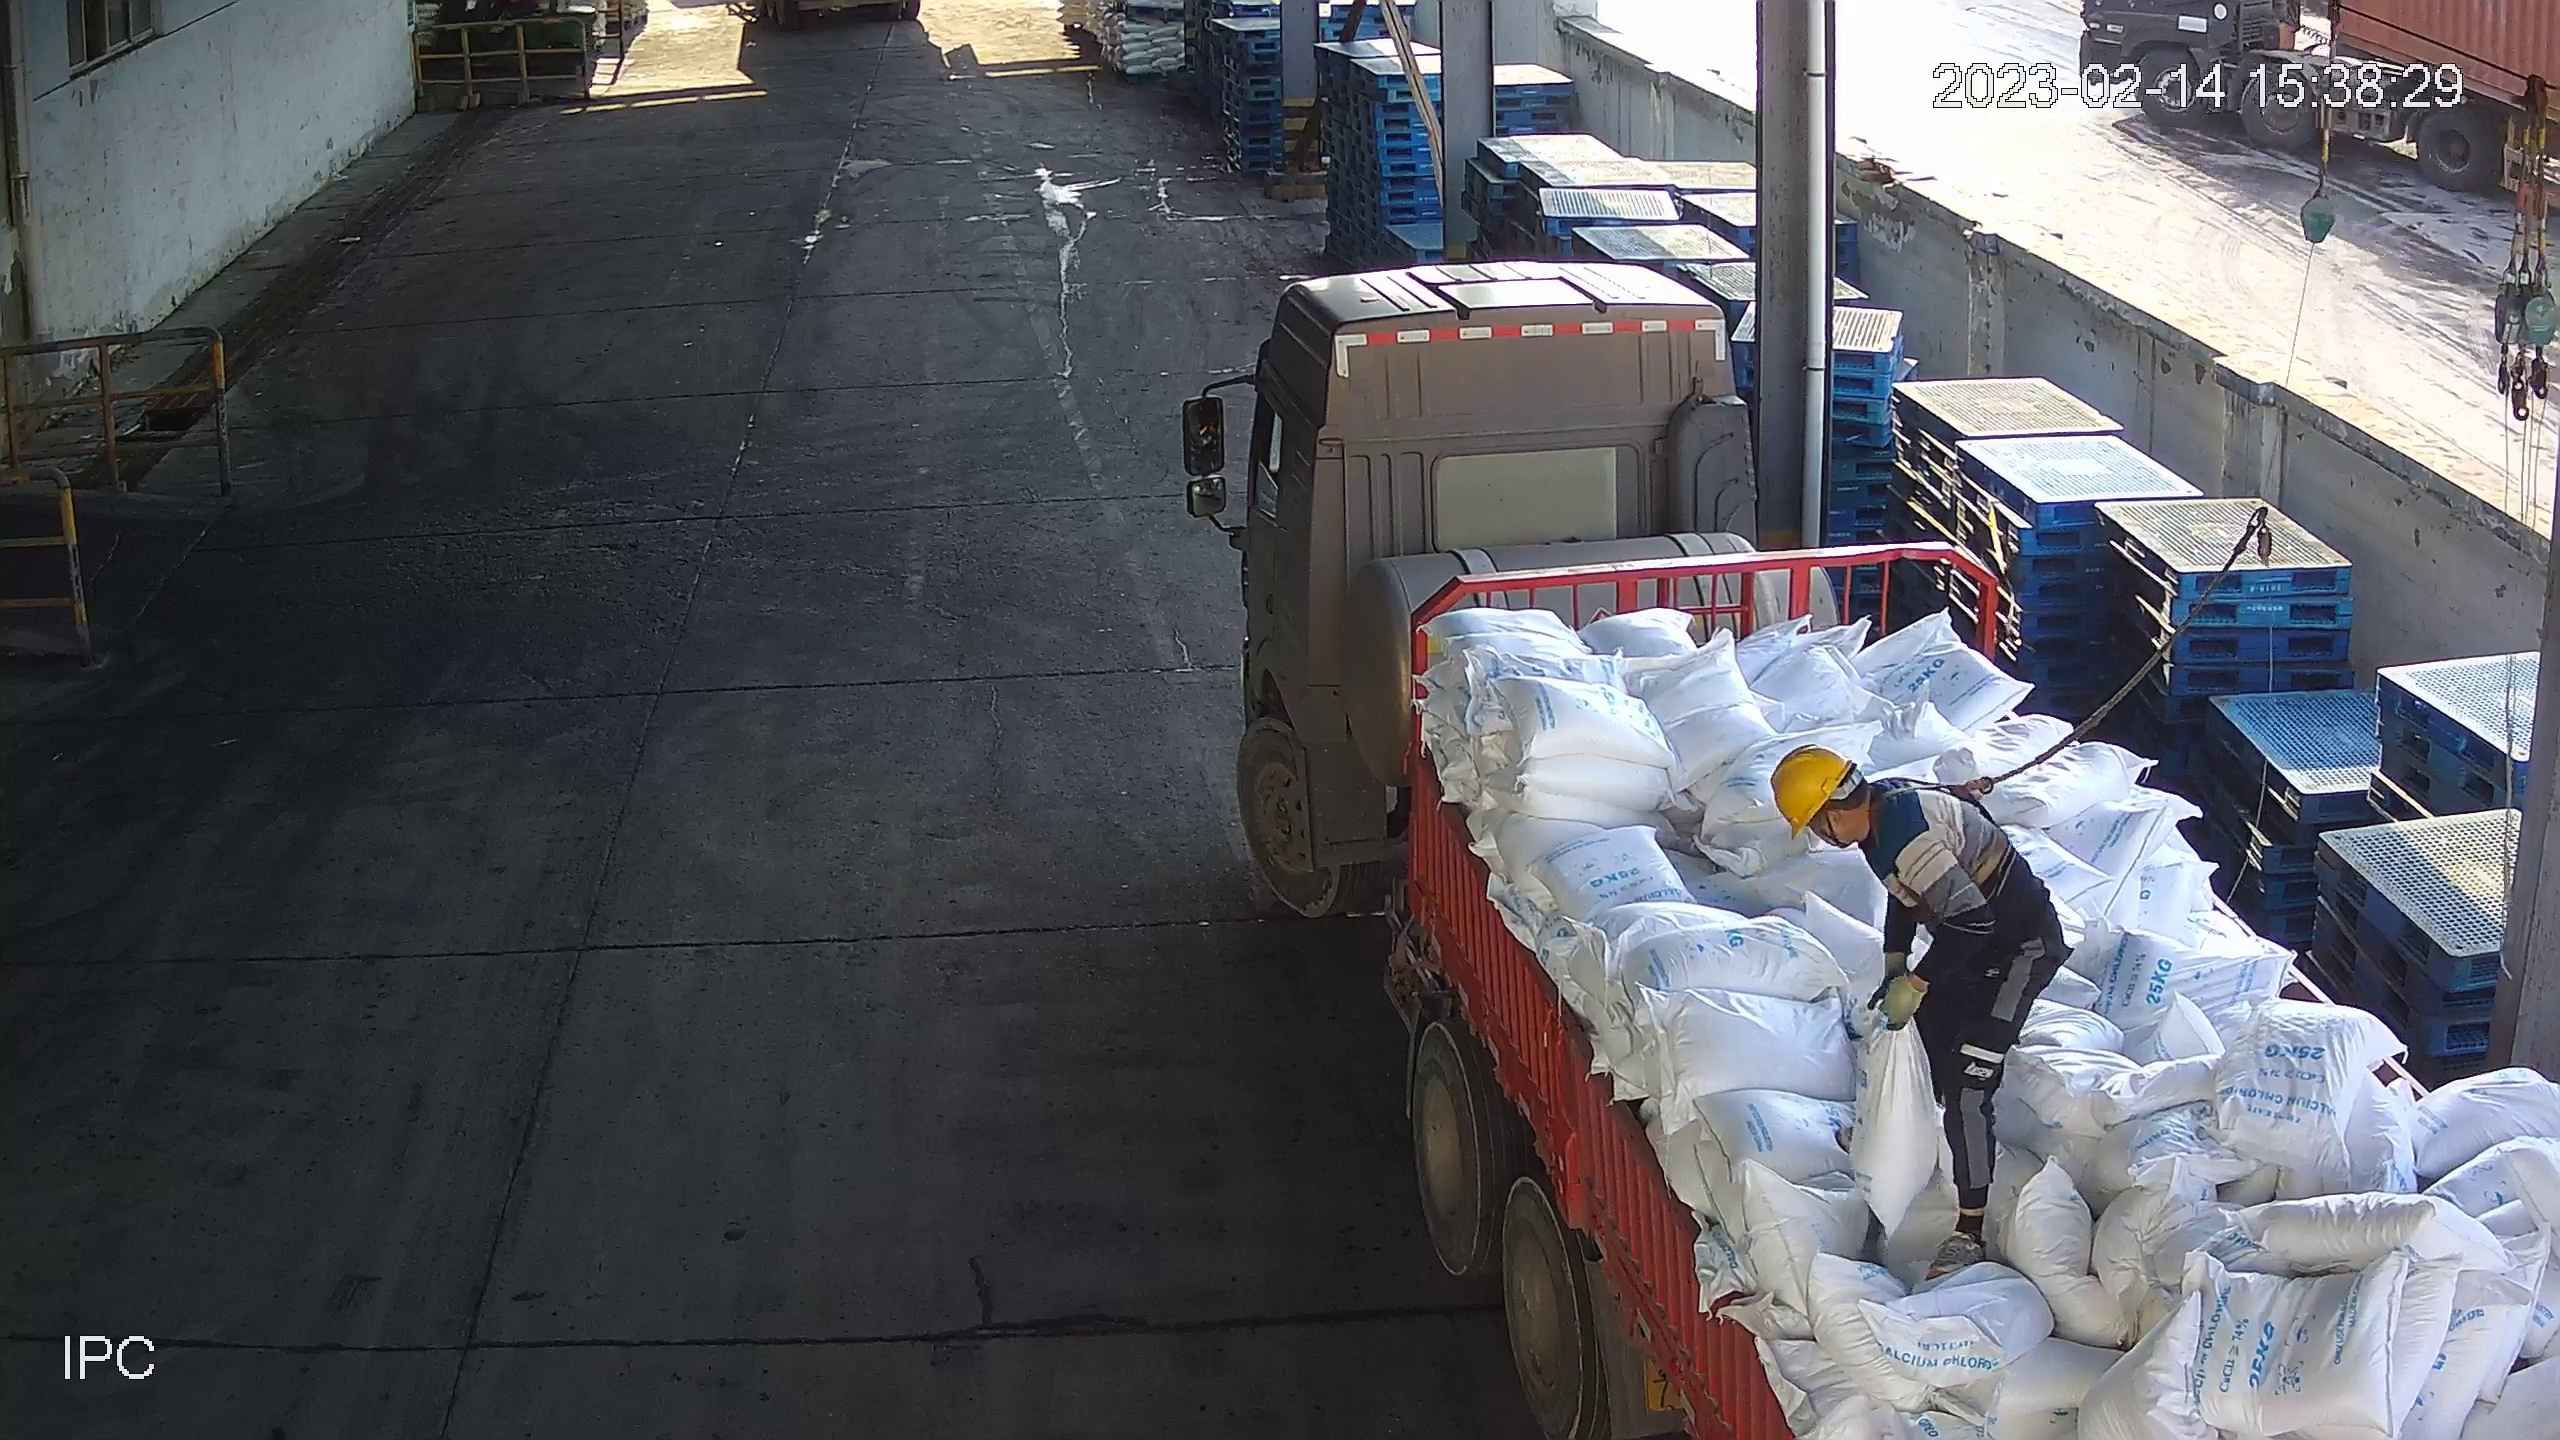belt: (1909, 764, 2011, 827)
head: (1766, 743, 1946, 884)
helmet: (1766, 734, 1842, 836)
people: (1772, 740, 2055, 1275)
truck: (1185, 258, 2560, 1440)
